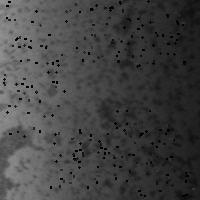pitted_surface: (1, 2, 193, 185), (3, 78, 63, 135), (113, 124, 173, 181), (113, 110, 170, 169), (50, 129, 108, 186), (65, 3, 122, 60), (3, 36, 61, 92), (127, 9, 183, 65), (1, 121, 42, 195), (119, 0, 177, 48), (135, 162, 194, 200), (0, 0, 48, 46)
